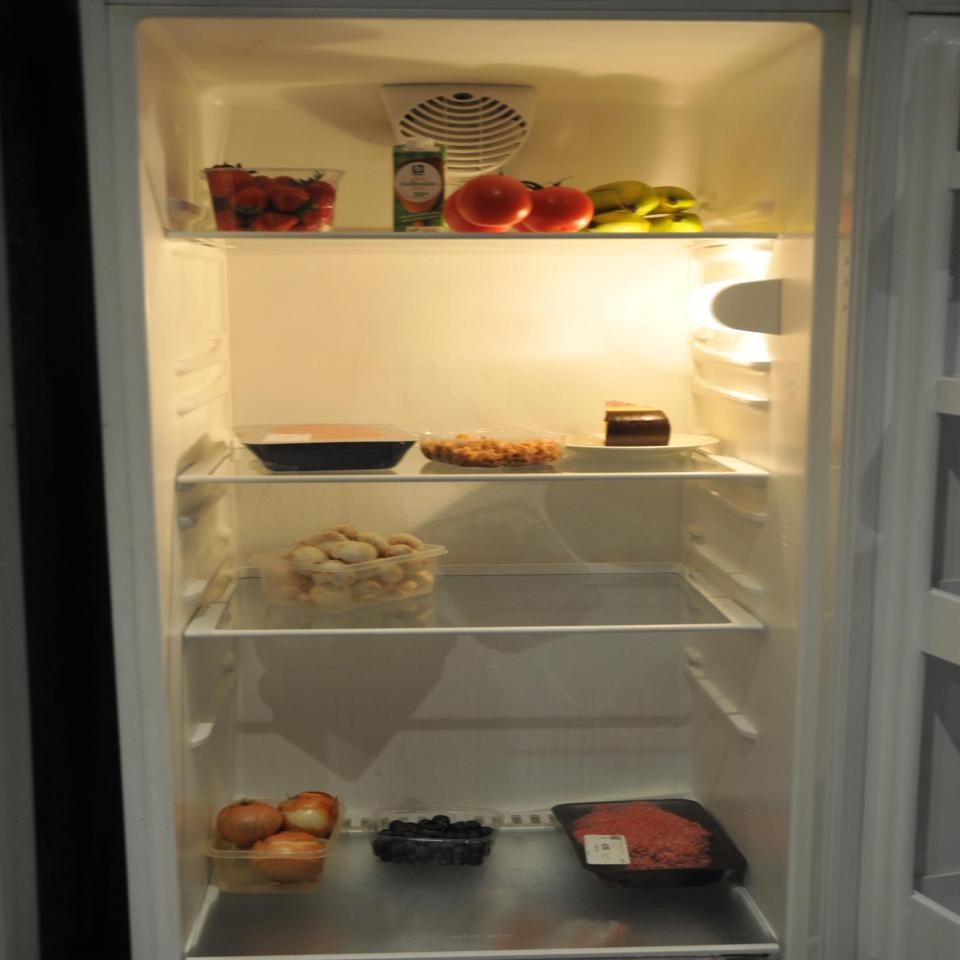Plátano: (585, 182, 705, 234)
Queso: (594, 396, 674, 452)
Tomate: (440, 168, 595, 236)
blueberries: (375, 806, 493, 866)
strawberries: (206, 155, 342, 231)
